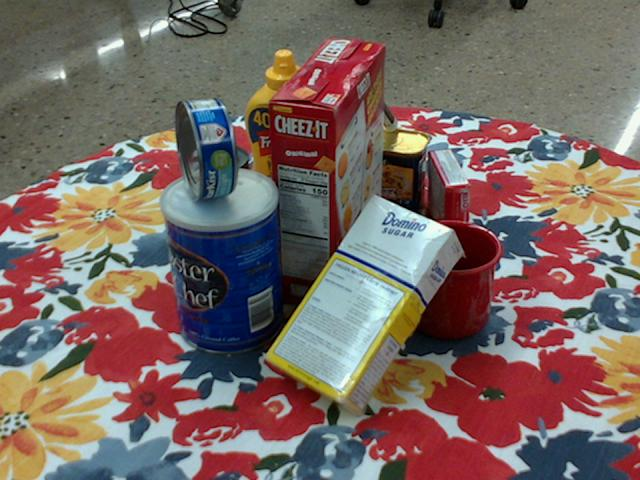cracker_box: (267, 39, 386, 312)
gelatin_box: (429, 147, 470, 244)
large_marker: (358, 78, 398, 130)
master_chef_can: (161, 169, 283, 357)
mug: (373, 218, 502, 339)
mustard_bottle: (245, 50, 335, 224)
potted_meat_can: (337, 122, 430, 215)
sugar_box: (264, 196, 463, 421)
tomato_soup_can: (184, 143, 255, 257)
tuna_fish_can: (174, 97, 238, 200)
